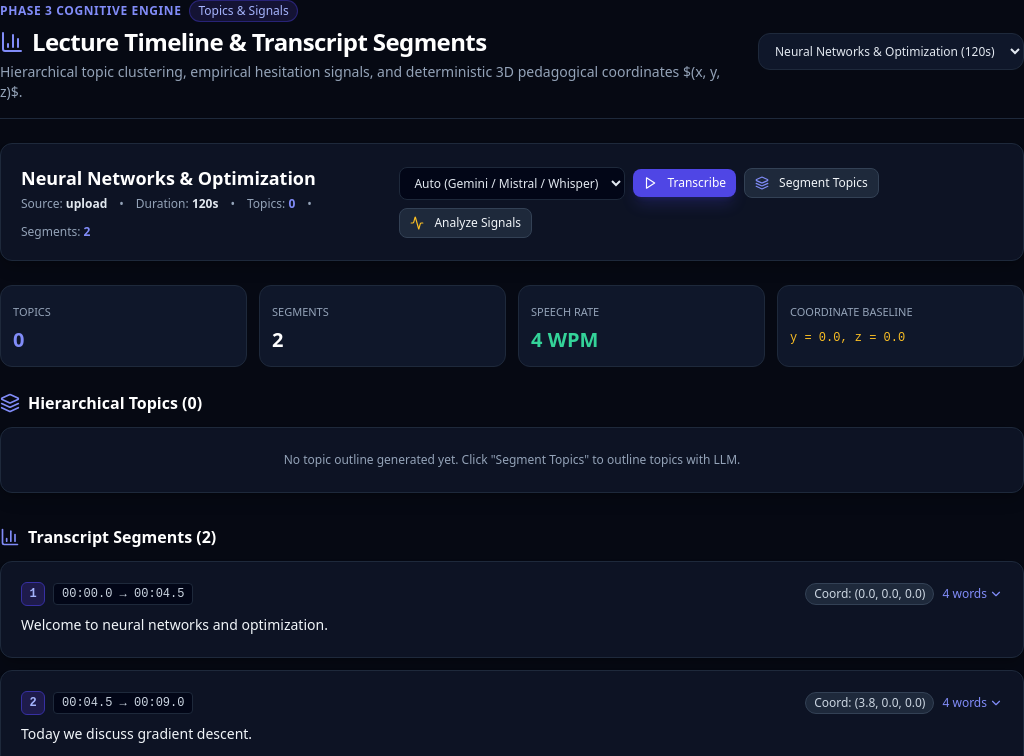
it: Phase 2 Transcription & AnalysisView Tests › renders transcript segments with timestamps and 3D coordinates
Expected: the text "Welcome to neural networks and optimization." is shown, [21, 615, 328, 634]
Expected: the text "Today we discuss gradient descent." is shown, [21, 724, 252, 743]
Expand word-level drawer
Click the button "4 words" in the row of "00:00.0": x=973, y=594 [942, 586, 1003, 602]
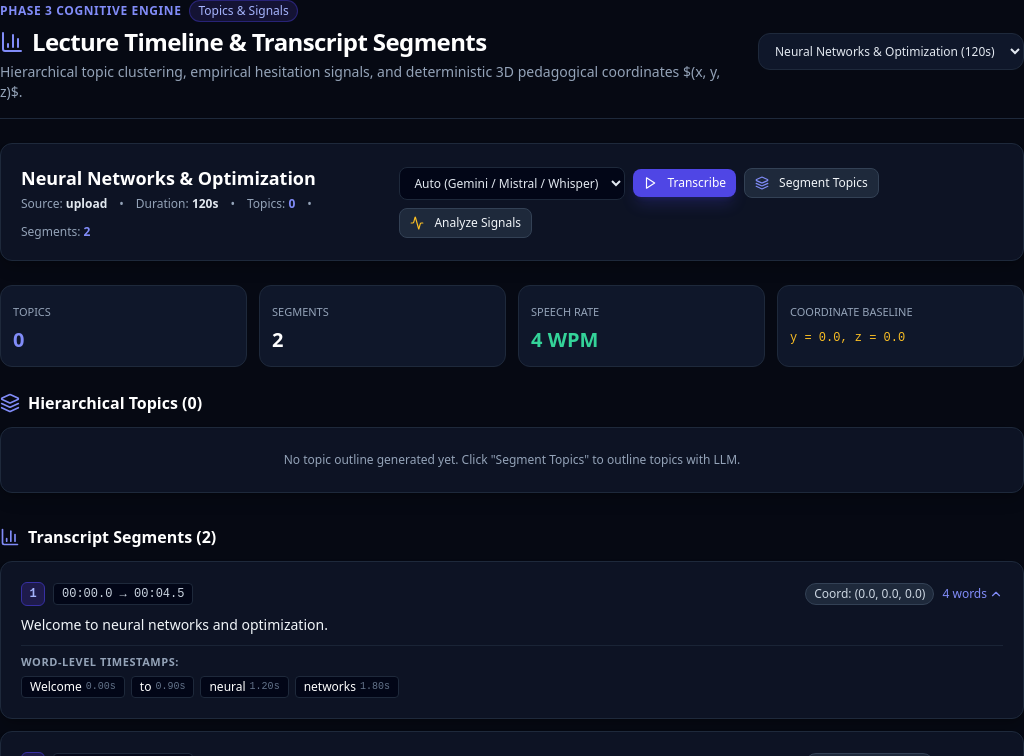
Result: the text "Word-Level Timestamps:" is shown at [21, 654, 179, 669]
Result: the text "Welcome" is shown at [30, 679, 82, 695]
Result: the text "0.00s" is shown at [86, 679, 116, 695]
